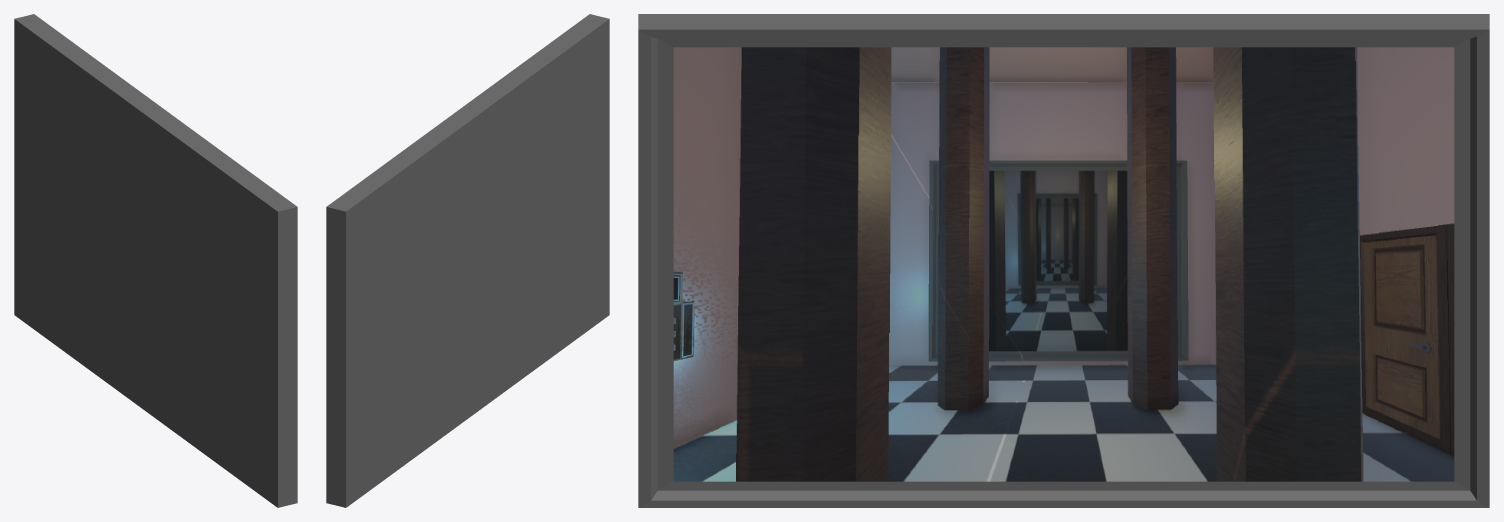
Rendered from painting1.fbx.
3 views of the same model, side by side, from view 1: azimuth 30°, elevation 25°; view 2: azimuth 150°, elevation 25°; view 3: azimuth 270°, elevation 25° (orthographic). The views are drawn at different scales.
Parts seen in each view (by area): view 1: pCube9; view 2: pCube9; view 3: pCube9.
Boxes of the visible parts, x1,y1,x2,y2 form: pCube9: [14, 14, 297, 507]; pCube9: [326, 14, 609, 507]; pCube9: [638, 14, 1489, 507].
Bounding box in the file's own units: 0.1809 × 2.58 × 4.17.
2 materials, 1 textured.
